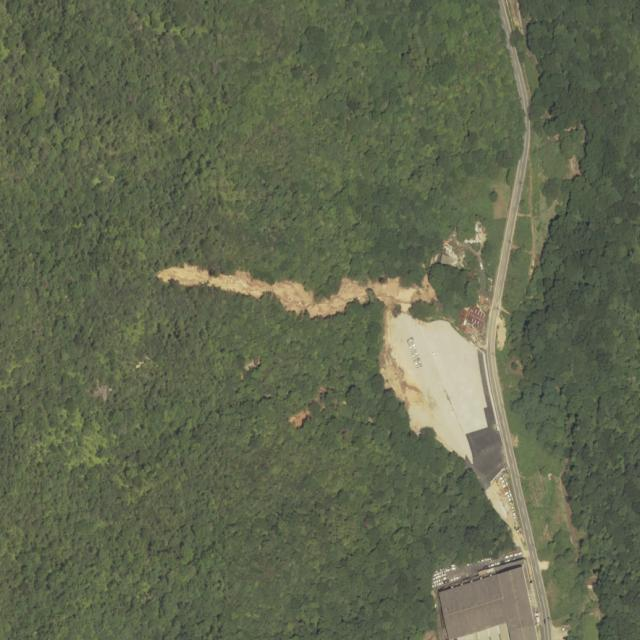landslide: (156, 264, 437, 318)
